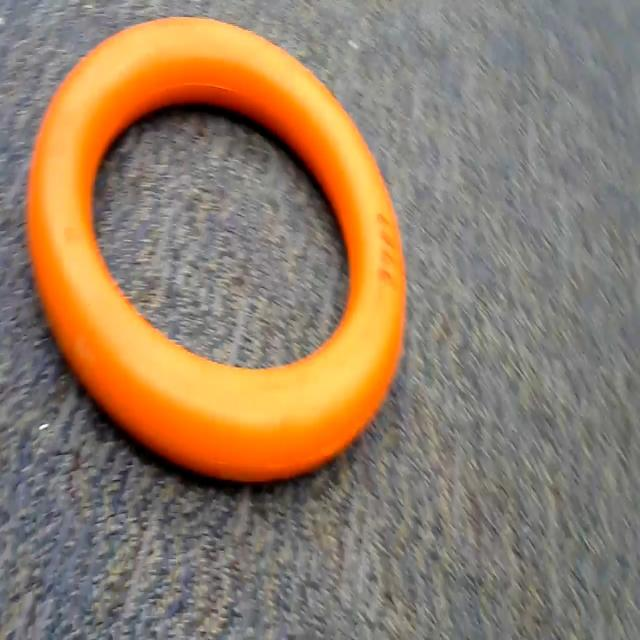note: (24, 0, 420, 507)
